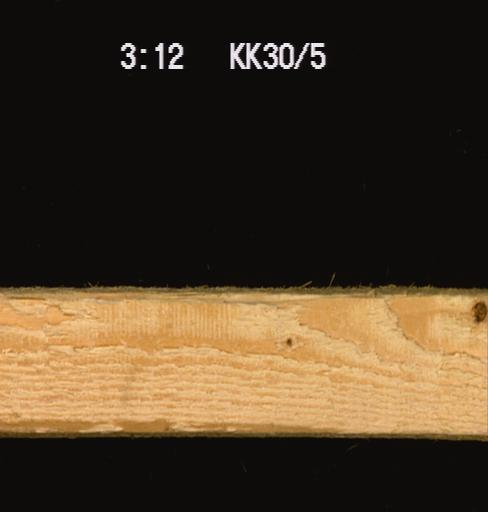dry_knot: (468, 296, 487, 323)
small_knot: (282, 332, 298, 348)
wave: (0, 416, 346, 438), (3, 285, 360, 299)
